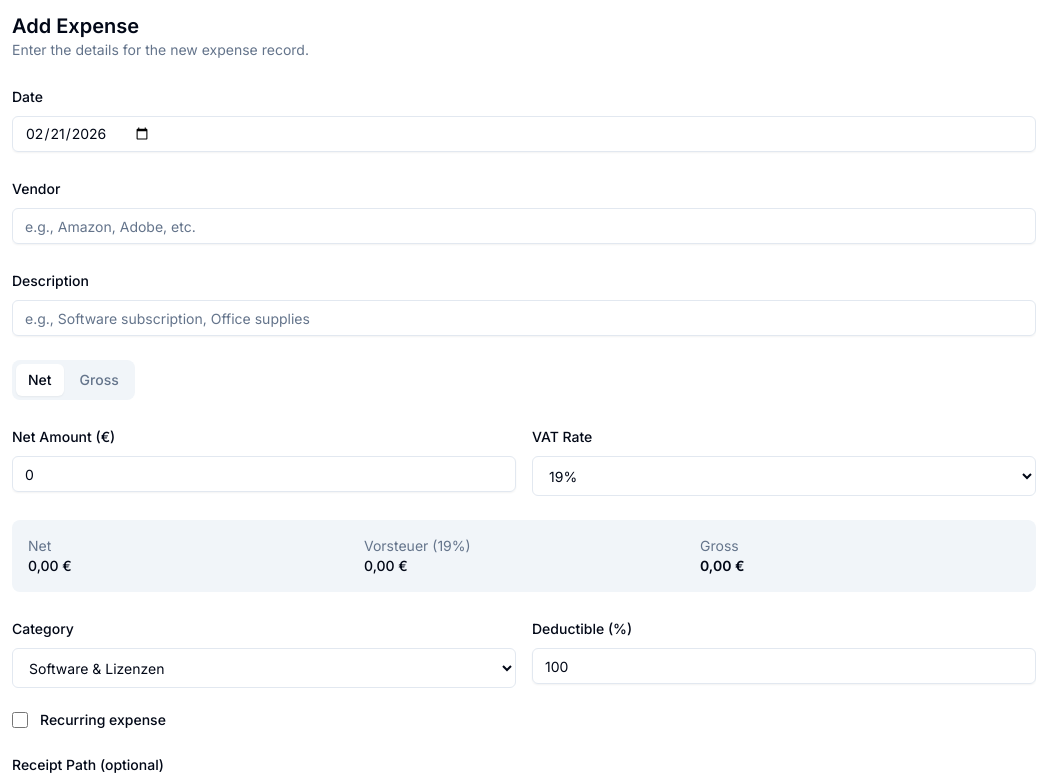
ExpenseForm › VAT calculation › reverse-calculates net from gross amount
Click the radio button with aria-label "gross amount": (99, 380) x1=68 y1=364 x2=131 y2=396
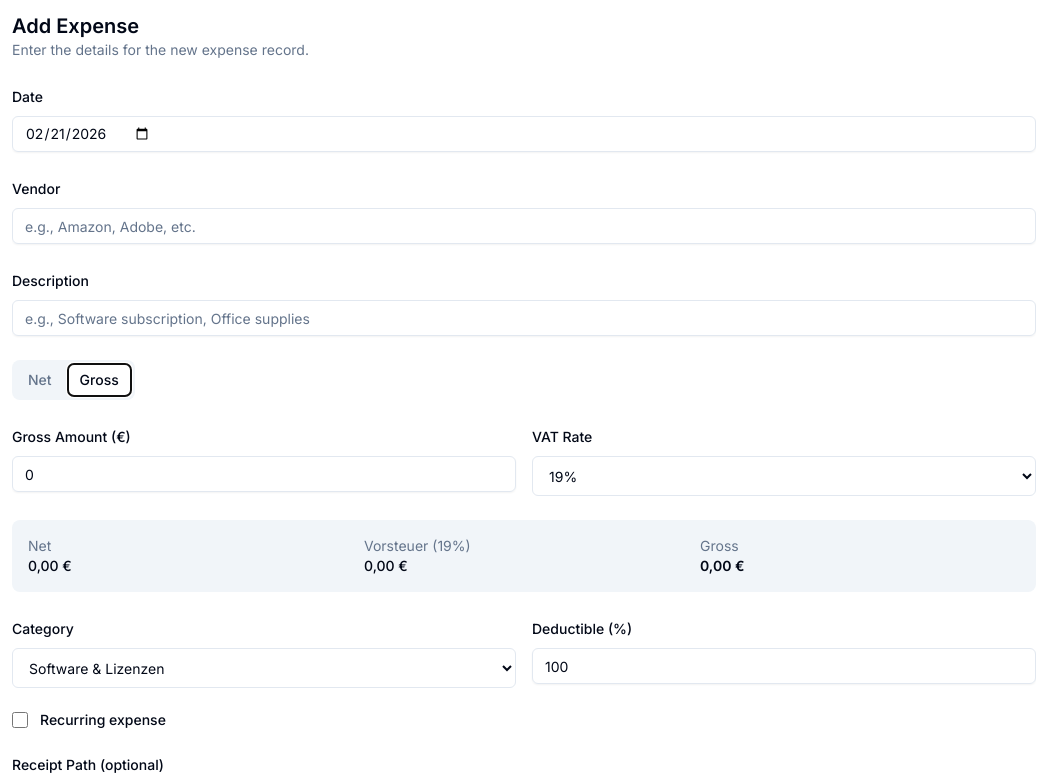
Replace the text in the number field labelled "Gross Amount (€)" with "119": (264, 474) x1=12 y1=456 x2=516 y2=492
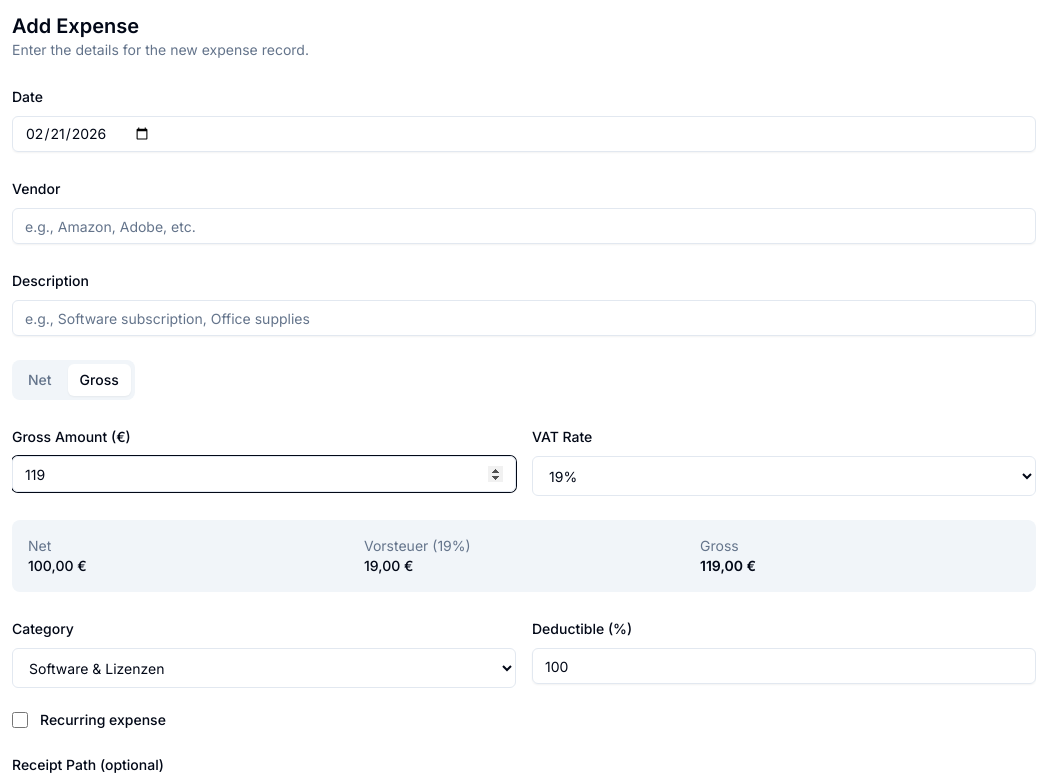
Check: the text "100,00 €" is shown, box x1=28 y1=557 x2=87 y2=574
Check: the text "19,00 €" is shown, box x1=364 y1=557 x2=413 y2=574
